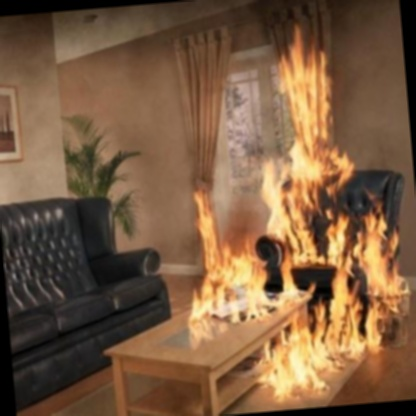fire: (153, 0, 416, 416)
